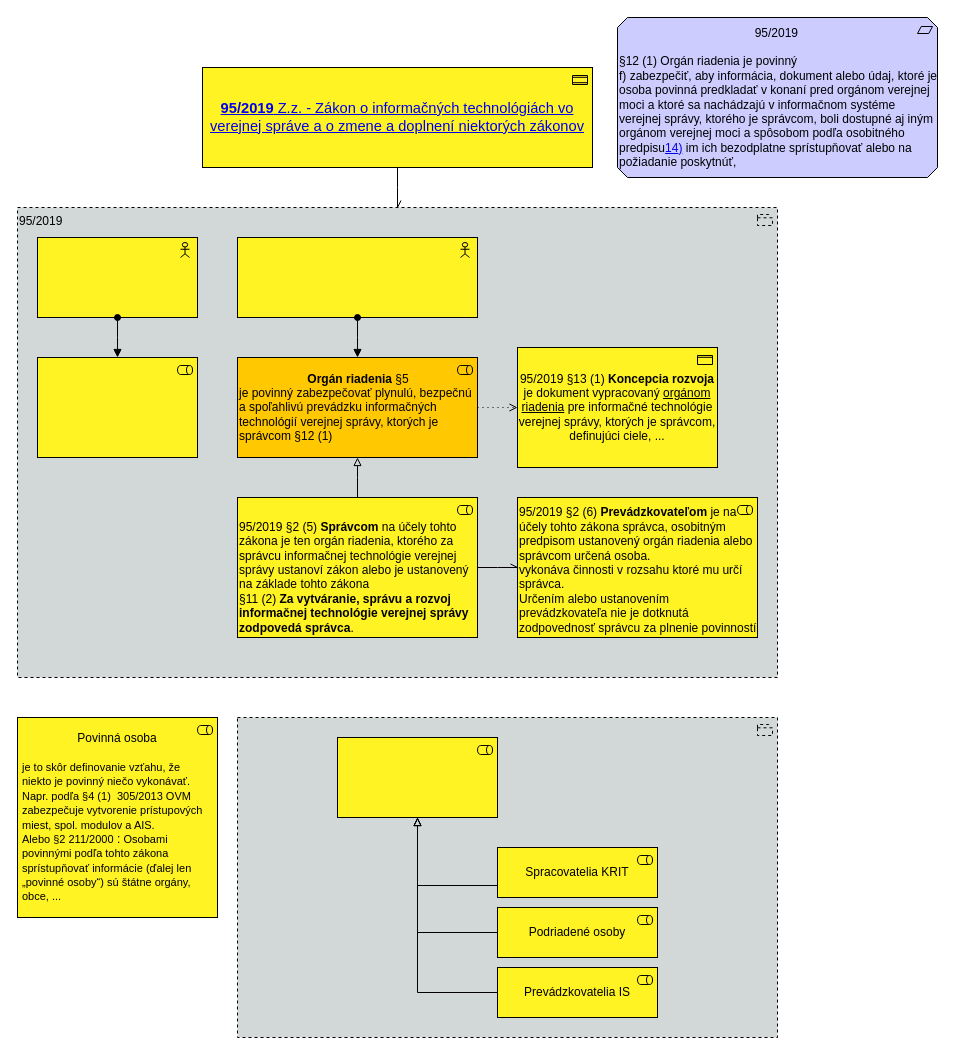
This 955x1055 diagram has some shape labels left out. Each missing label, with the box of its shape:
MetaIS: (236, 716, 778, 1038)
Ministerstvo investícií: (36, 236, 198, 318)
Ministerstvo, GP, NKÚ, ÚDZS, ... NR SR, ... regulované profesie a komory, ...: (236, 236, 478, 318)
Orgán riadenia: (336, 736, 498, 818)
Orgán vedenia: (36, 356, 198, 458)
